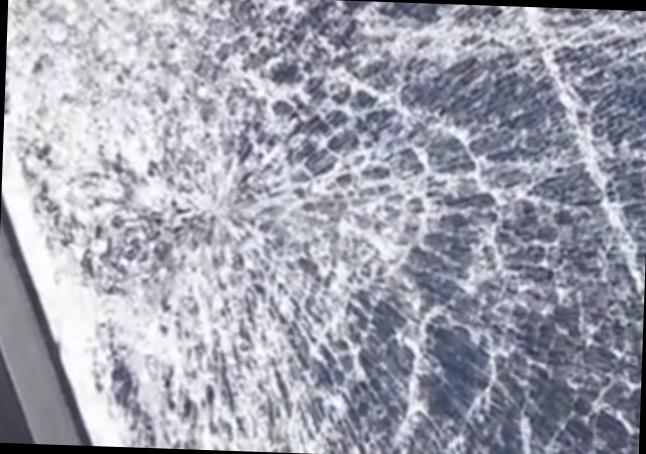Crack: (6, 8, 645, 453)
